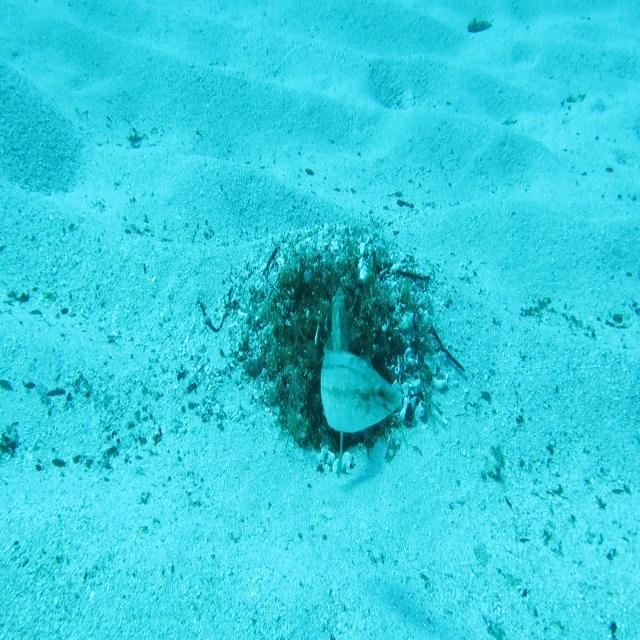FAN: (324, 284, 358, 484)
core_nest: (308, 276, 359, 304)
female: (318, 333, 404, 440)
nest: (227, 212, 458, 484)
vegetation: (465, 16, 496, 36)
